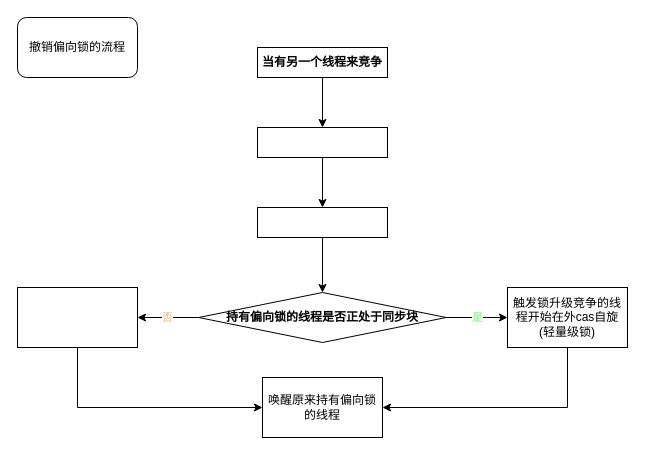
The diagram is 645 pixels wide and 455 high, and some of its shapes have lost their labels. The shapes that lost their labels are listed below. From the top down, each one's box as (x1, y1, x2, y2) in pixels, then its label:
(256, 126, 388, 158): 等待进入全局安全点
(256, 206, 388, 238): 暂停原来持有偏向锁的线程
(16, 286, 138, 348): 将远来持有偏向锁的线程设置为无锁状态,重新进行偏向锁的竞争
